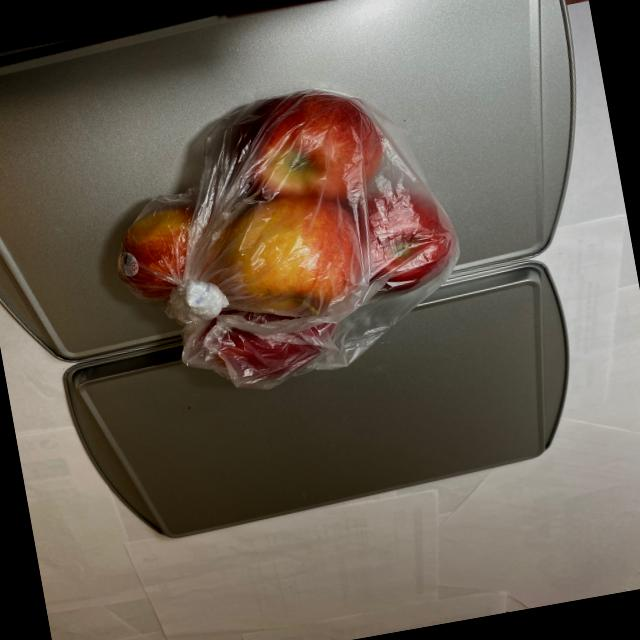apple: (89, 66, 482, 412)
